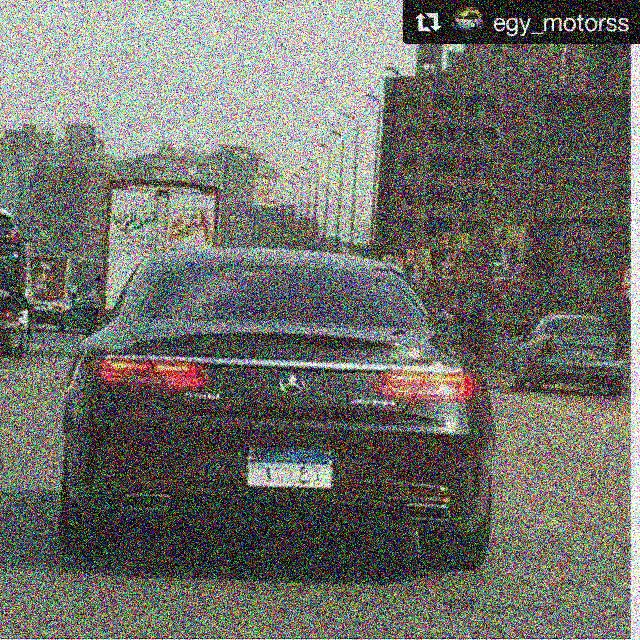License Plate: (243, 441, 337, 492)
